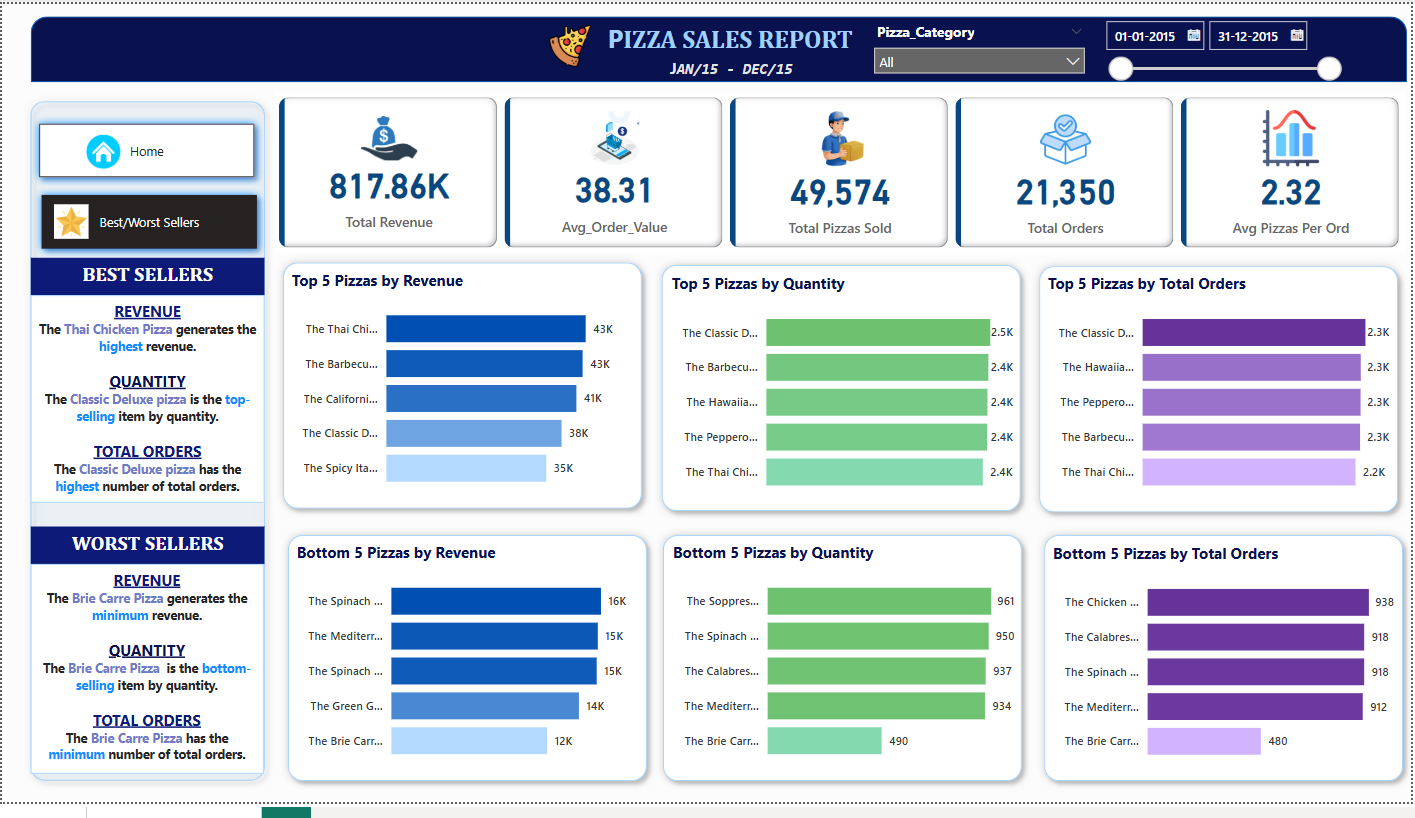

This screenshot's page, from the dashboard's own definition file:
{"tool":"powerbi","page":{"name":" Best/Worst Sellers","canvas":[1500,850],"ordinal":1},"visuals":[{"type":"shape","box":[21.2,95,267.5,741.2],"z":0},{"type":"cardVisual","fields":{"Data":["pizza_sales.Total Revenue","pizza_sales.Avg_Order_Value","pizza_sales.Total Pizzas Sold","pizza_sales.Total Orders","pizza_sales.Avg Pizzas Per Ord"]},"box":[290,95,1205,170],"z":1000},{"type":"shape","box":[30,13.3,1465,70],"z":2000},{"type":"textbox","box":[607.1,12.9,337.1,58.6],"z":3000},{"type":"textbox","box":[671.4,51.4,208.6,31.4],"z":4000},{"type":"image","box":[572.9,17.1,62.9,54.3],"z":5000},{"type":"shape","box":[290,266.7,400,280],"z":6000},{"type":"textbox","box":[30,270,248.8,40],"z":7000},{"type":"textbox","box":[30,310,249,221],"z":8000},{"type":"textbox","box":[30,556.2,248.8,40],"z":9000},{"type":"textbox","box":[31.1,596.7,247.8,223.3],"z":10000},{"type":"slicer","fields":{"Values":["pizza_sales.pizza_category"]},"box":[918.6,14.3,244.3,68.6],"z":11000},{"type":"slicer","fields":{"Values":["pizza_sales.order_date"]},"box":[1162.9,8.6,271.4,117.1],"z":12000},{"type":"shape","box":[693.3,268.3,400,280],"z":13000},{"type":"shape","box":[1095,270,400,280],"z":14000},{"type":"shape","box":[295,556.7,400,280],"z":15000},{"type":"shape","box":[695,556.7,400,280],"z":16000},{"type":"shape","box":[1100,556.7,400,280],"z":17000},{"type":"barChart","title":"Top 5 Pizzas by Revenue","fields":{"Category":["pizza_sales.pizza_name"],"Y":["pizza_sales.Total Revenue"]},"box":[303.8,282.5,373.8,247.5],"z":18000},{"type":"barChart","title":"Bottom 5 Pizzas by Revenue","fields":{"Category":["pizza_sales.pizza_name"],"Y":["pizza_sales.Total Revenue"]},"box":[308.8,572.5,373.8,247.5],"z":19000},{"type":"barChart","title":"Top 5 Pizzas by Quantity","fields":{"Category":["pizza_sales.pizza_name"],"Y":["pizza_sales.Total Pizzas Sold"]},"box":[707.5,286.2,373.8,247.5],"z":20000},{"type":"barChart","title":"Bottom 5 Pizzas by Quantity","fields":{"Category":["pizza_sales.pizza_name"],"Y":["pizza_sales.Total Pizzas Sold"]},"box":[708.8,572.5,373.8,247.5],"z":21000},{"type":"barChart","title":"Top 5 Pizzas by Total Orders","fields":{"Category":["pizza_sales.pizza_name"],"Y":["pizza_sales.Total Orders"]},"box":[1108.8,286.2,373.8,247.5],"z":22000},{"type":"barChart","title":"Bottom 5 Pizzas by Total Orders","fields":{"Category":["pizza_sales.pizza_name"],"Y":["pizza_sales.Total Orders"]},"box":[1113.3,573.3,373.3,246.7],"z":23000},{"type":"pageNavigator","box":[32.9,194.3,247.1,75],"z":24000},{"type":"pageNavigator","box":[30,118.6,247.1,75.7],"z":25000},{"type":"image","box":[85.7,134.3,45.7,45.7],"z":26000},{"type":"image","box":[50.7,208,46.7,48],"z":27000}]}

Visuals, with their boxes in screenshot pixels (x1, y1, x2, y2), scaled from the page's 1500x850 canvas onto the 1415x818 screenshot:
shape: l=20, t=91, r=272, b=805
cardVisual - pizza_sales.Total Revenue x pizza_sales.Avg_Order_Value: l=274, t=91, r=1410, b=255
shape: l=28, t=13, r=1410, b=80
textbox: l=573, t=12, r=891, b=69
textbox: l=633, t=49, r=830, b=80
image: l=540, t=16, r=600, b=69
shape: l=274, t=257, r=651, b=526
textbox: l=28, t=260, r=263, b=298
textbox: l=28, t=298, r=263, b=511
textbox: l=28, t=535, r=263, b=574
textbox: l=29, t=574, r=263, b=789
slicer - pizza_sales.pizza_category: l=867, t=14, r=1097, b=80
slicer - pizza_sales.order_date: l=1097, t=8, r=1353, b=121
shape: l=654, t=258, r=1031, b=528
shape: l=1033, t=260, r=1410, b=529
shape: l=278, t=536, r=656, b=805
shape: l=656, t=536, r=1033, b=805
shape: l=1038, t=536, r=1414, b=805
"Top 5 Pizzas by Revenue" barChart: l=287, t=272, r=639, b=510
"Bottom 5 Pizzas by Revenue" barChart: l=291, t=551, r=644, b=789
"Top 5 Pizzas by Quantity" barChart: l=667, t=275, r=1020, b=514
"Bottom 5 Pizzas by Quantity" barChart: l=669, t=551, r=1021, b=789
"Top 5 Pizzas by Total Orders" barChart: l=1046, t=275, r=1399, b=514
"Bottom 5 Pizzas by Total Orders" barChart: l=1050, t=552, r=1402, b=789
pageNavigator: l=31, t=187, r=264, b=259
pageNavigator: l=28, t=114, r=261, b=187
image: l=81, t=129, r=124, b=173
image: l=48, t=200, r=92, b=246
